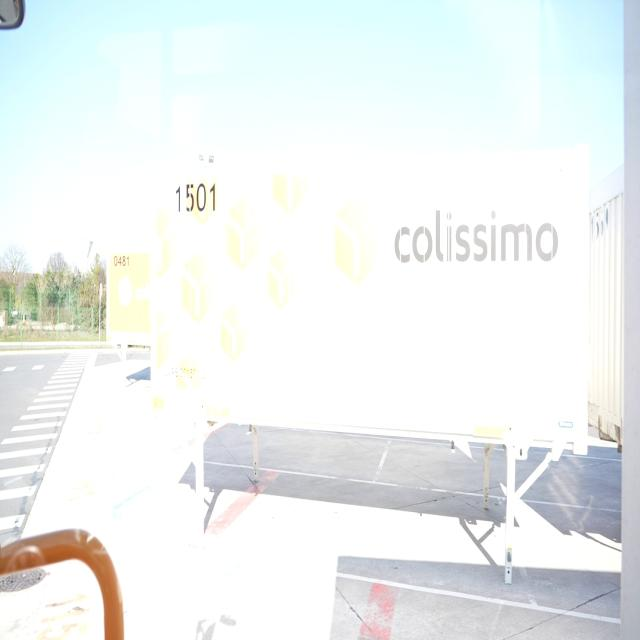Code: (173, 177, 219, 215), (109, 246, 134, 272)
